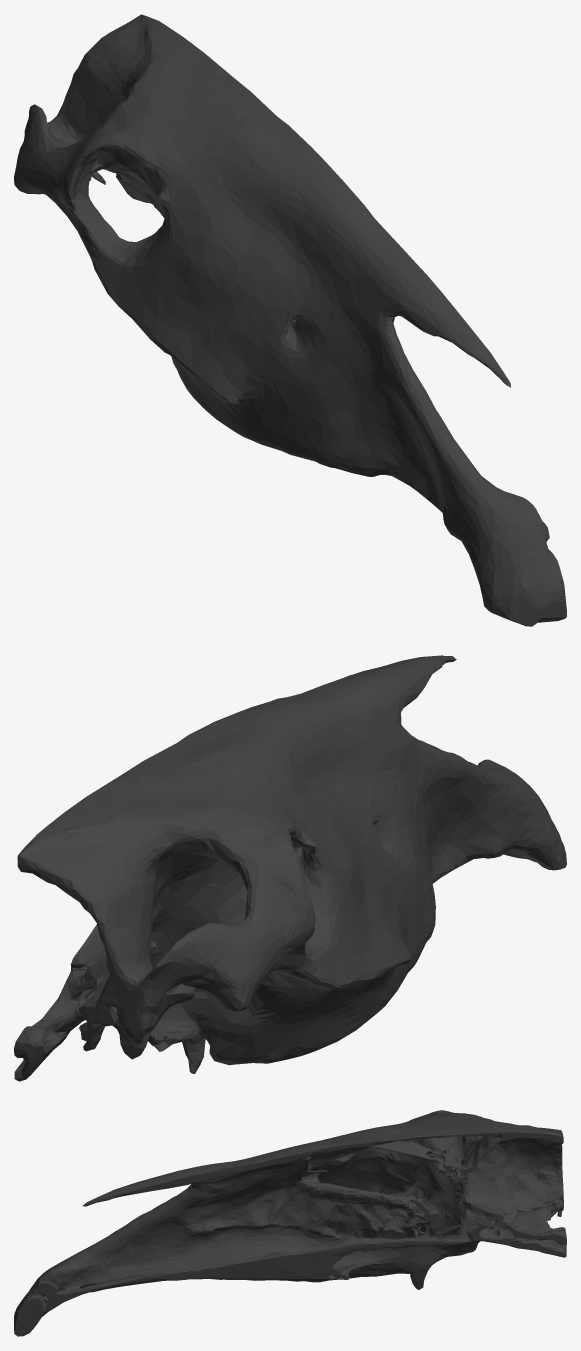
The model's file is R_maxilla.glb.
The picture shows the model from 3 angles, top to bottom: view 1: azimuth 30°, elevation 25°; view 2: azimuth 150°, elevation 25°; view 3: azimuth 270°, elevation 25°; orthographic projection. The views are drawn at different scales.
Parts seen in each view (by area): view 1: R_maxilla; view 2: R_maxilla; view 3: R_maxilla.
Boxes of the visible parts, x1,y1,x2,y2 form: R_maxilla: (14,14,566,626); R_maxilla: (14,655,566,1081); R_maxilla: (14,1110,566,1336).
Size of the model in its own units: 1.83 by 3.23 by 7.94.
1 material, 1 textured.
